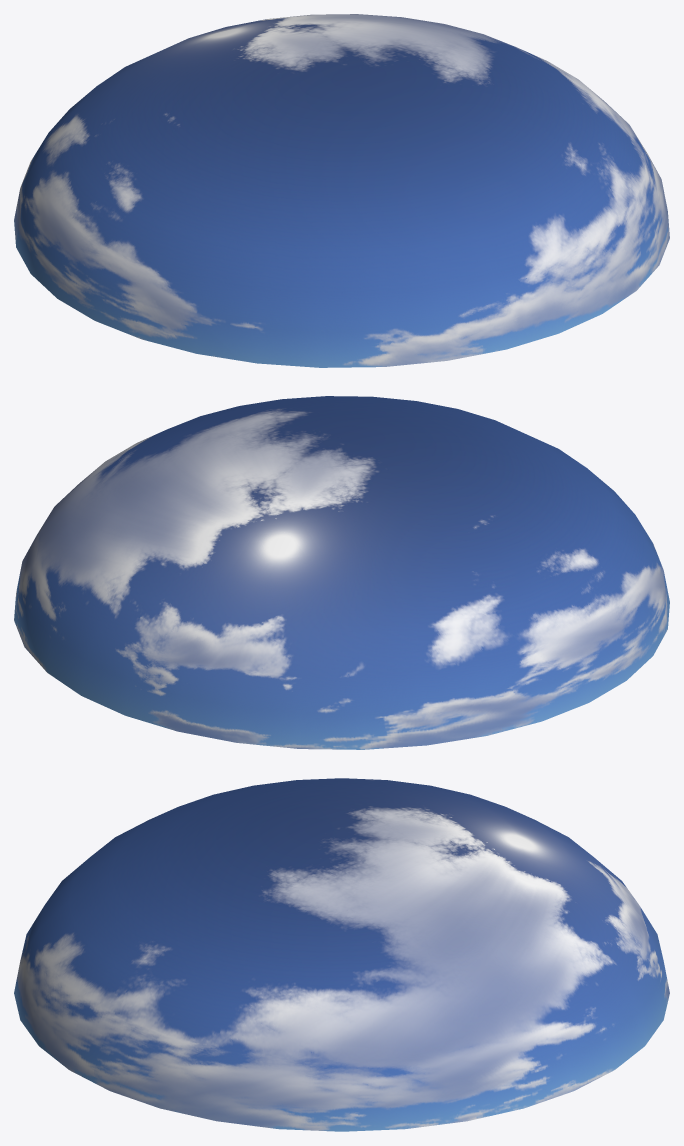
File: sky.obj
3 renders of one model, top to bottom at view 1: azimuth 30°, elevation 25°; view 2: azimuth 150°, elevation 25°; view 3: azimuth 270°, elevation 25°, orthographic.
Parts seen in each view (by area): view 1: Sphere; view 2: Sphere; view 3: Sphere.
Boxes of the visible parts, x1,y1,x2,y2 form: Sphere: (14,14,669,367); Sphere: (14,396,669,749); Sphere: (14,778,669,1131).
Bounding box in the file's own units: 542 × 151 × 542.
1 material, 1 textured.
